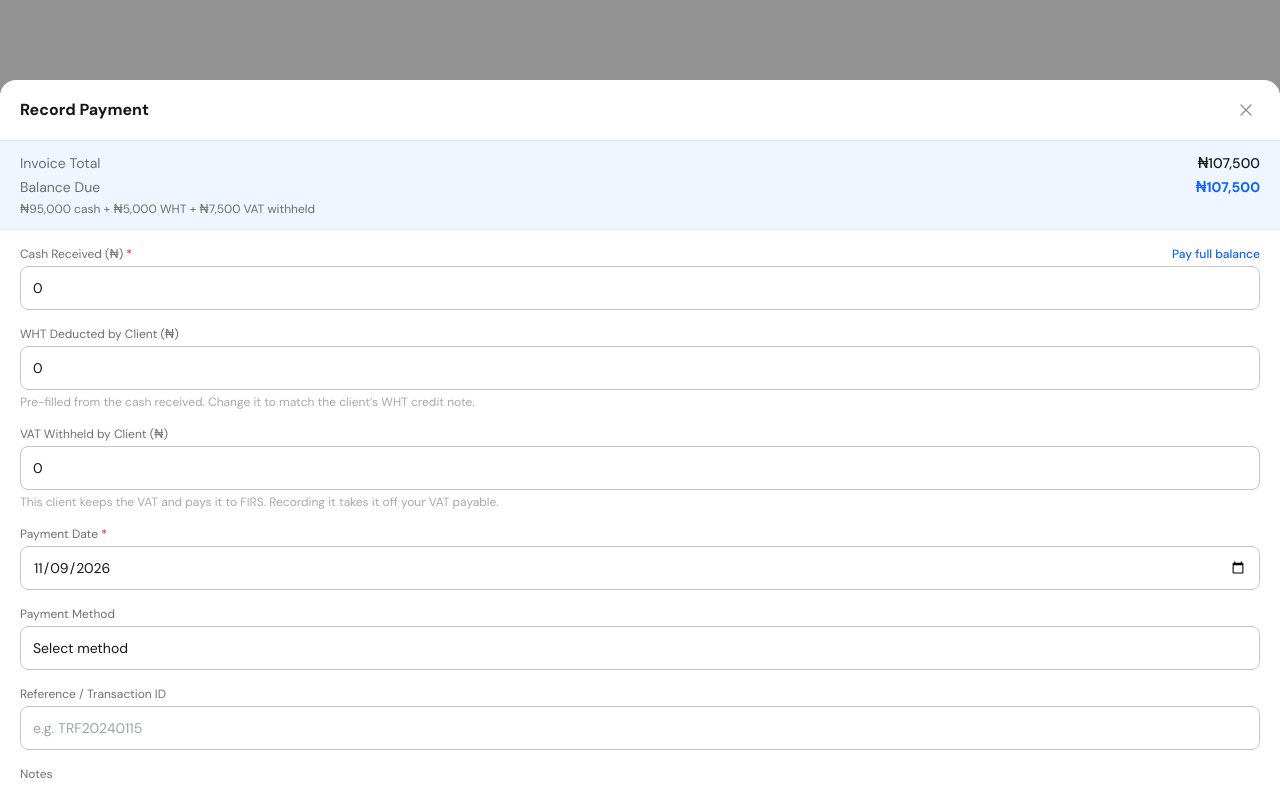
it: RecordPaymentSheet › pre-fills WHT and VAT withheld from the cash received
Replace the text in the number field labelled "Cash Received (₦) *" with "47500". click: (640,288)
box: [20, 266, 1260, 310]
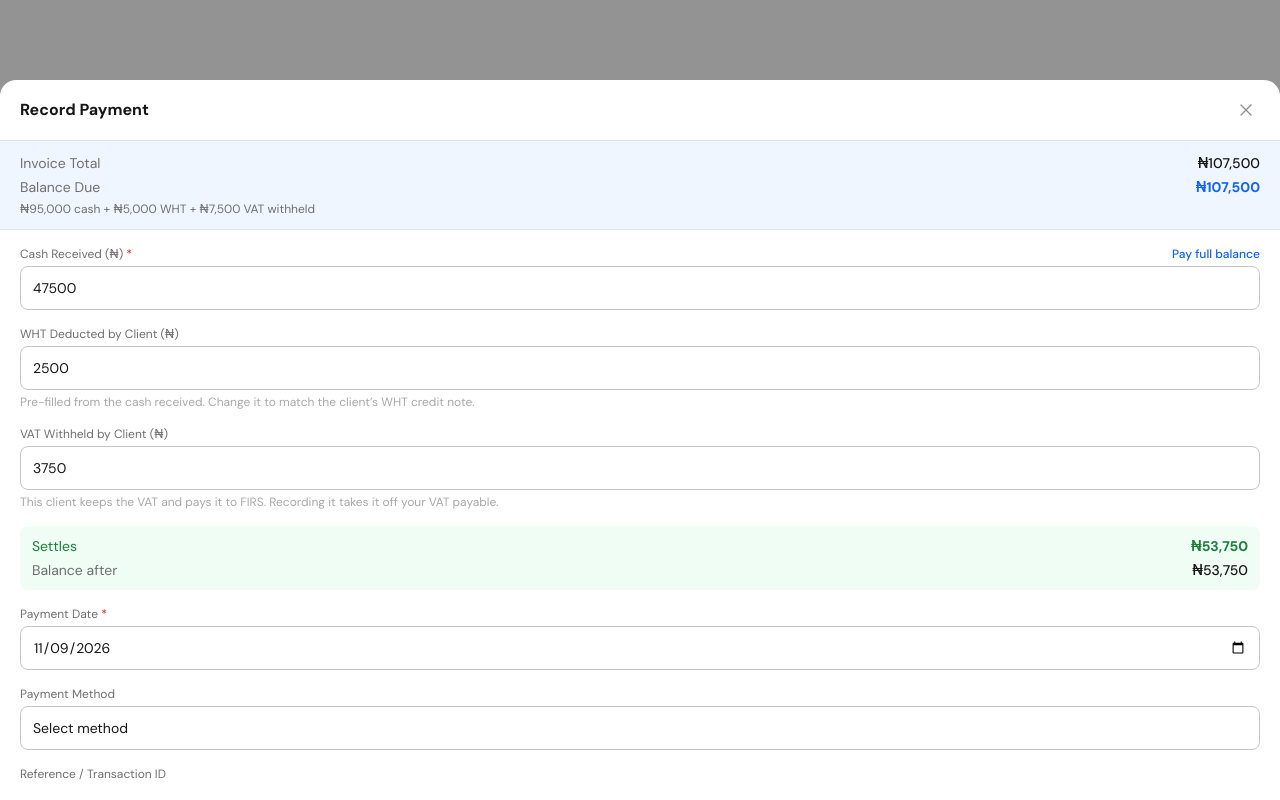
expect the number field labelled "WHT Deducted by Client (₦)" holds "2500": met, box [20, 346, 1260, 390]
expect the number field labelled "VAT Withheld by Client (₦)" holds "3750": met, box [20, 446, 1260, 490]
expect the text "₦53,750" in the row of "Balance after" is shown: met, box [1192, 561, 1248, 579]
